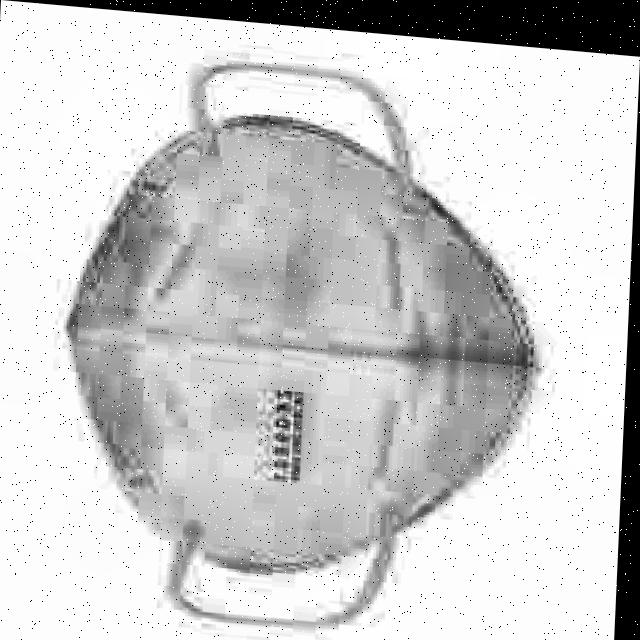trash: (53, 102, 547, 593)
